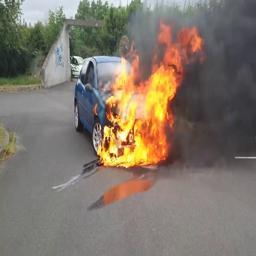fire: (95, 20, 208, 170)
